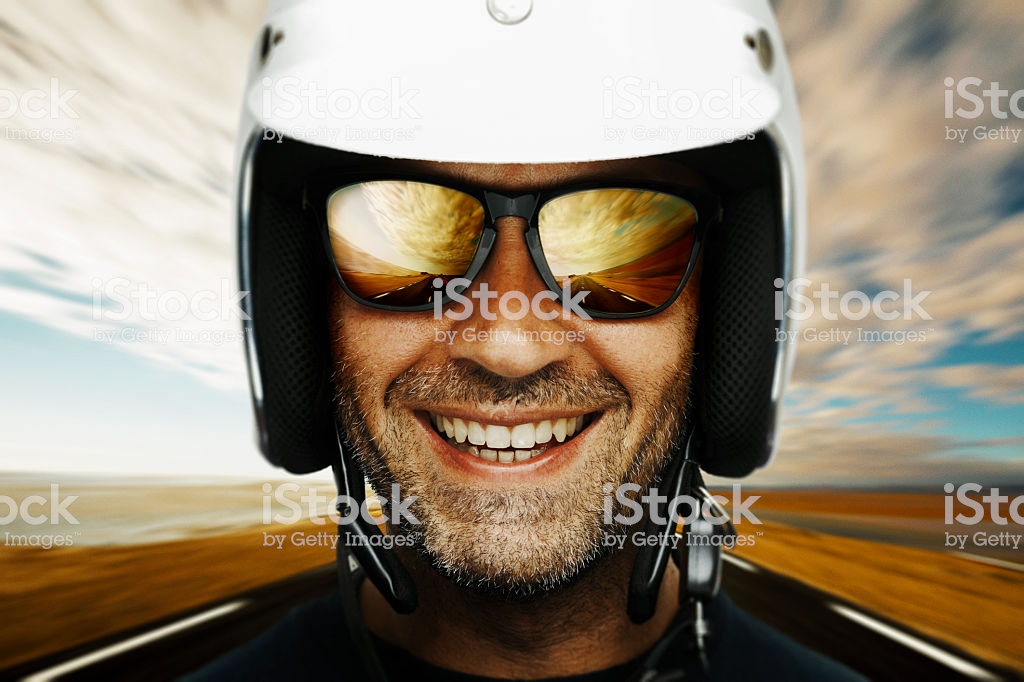helmet: (229, 4, 795, 427)
